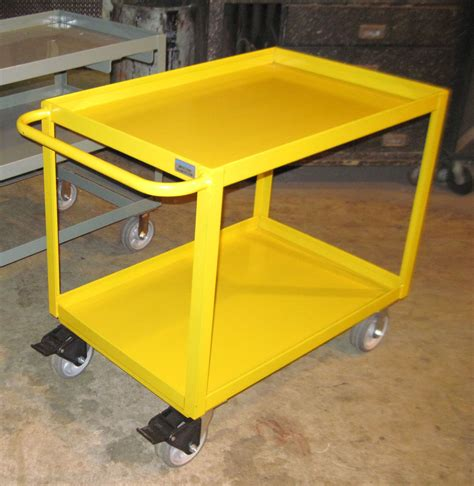Carts: (13, 44, 449, 468), (1, 14, 169, 266)
